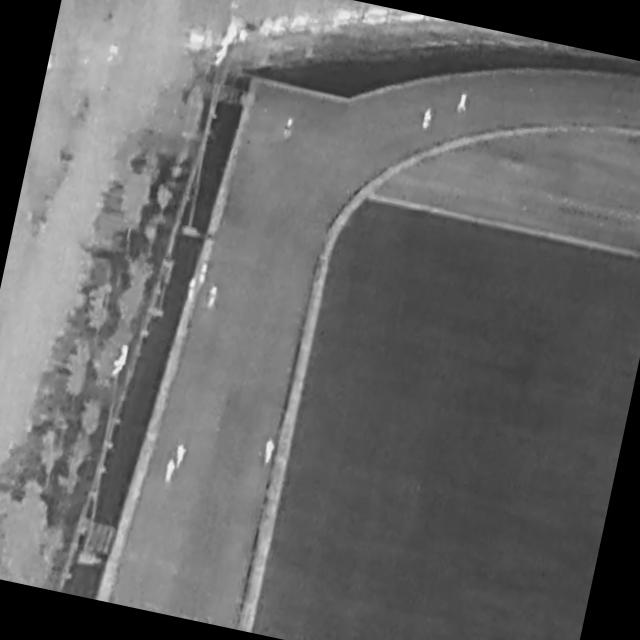person: (262, 437, 278, 468), (174, 442, 188, 472), (281, 114, 296, 141), (185, 277, 199, 303), (164, 457, 177, 484), (206, 284, 219, 310), (457, 92, 470, 114), (422, 107, 434, 129), (199, 263, 209, 284)
